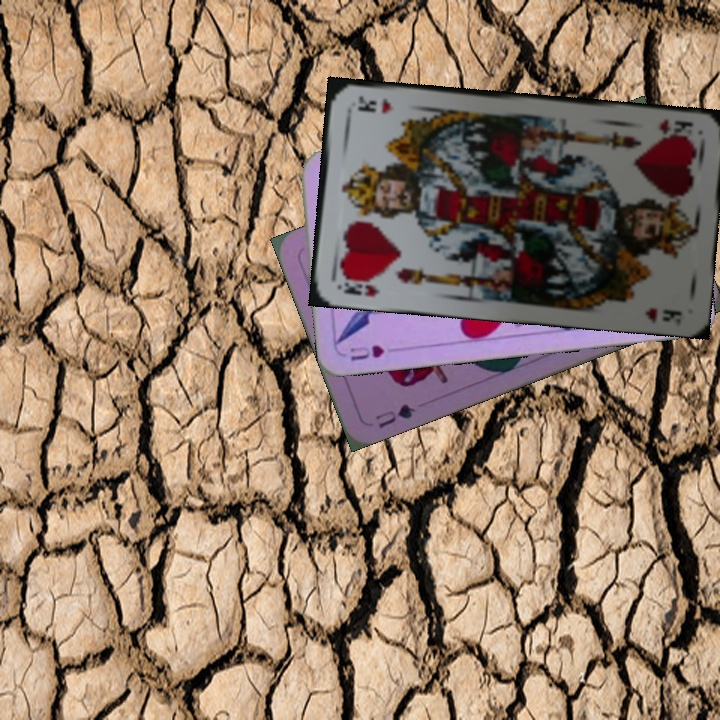GU: (371, 400, 418, 431)
HK: (335, 272, 382, 300), (655, 116, 696, 142)
HU: (346, 341, 387, 364)
